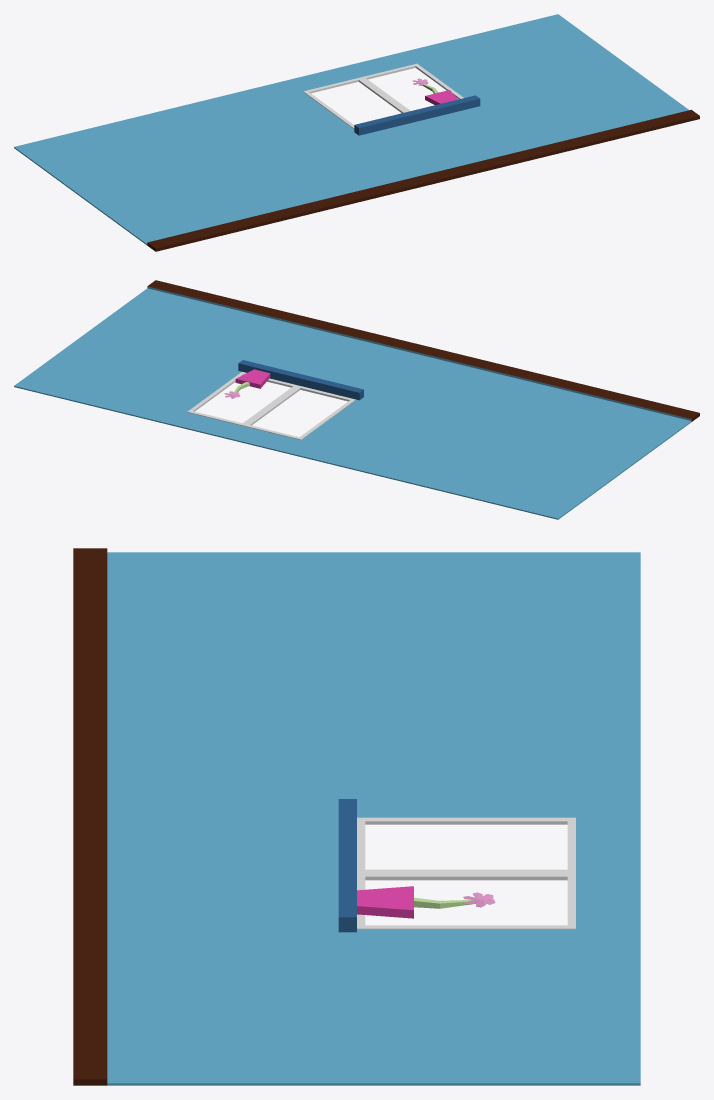
File: BedroomWall.fbx
3 renders of one model, top to bottom at view 1: azimuth 30°, elevation 25°; view 2: azimuth 150°, elevation 25°; view 3: azimuth 270°, elevation 25°, orthographic. The views are drawn at different scales.
Parts seen in each view (by area): view 1: Cube, Cube.001; view 2: Cube, Cube.001; view 3: Cube, Cube.001.
Part boxes in pixels (x1=…): Cube: x1=14, y1=14, x2=699, y2=251; Cube.001: x1=422, y1=84, x2=457, y2=104; Cube: x1=14, y1=280, x2=699, y2=519; Cube.001: x1=233, y1=369, x2=270, y2=392; Cube: x1=73, y1=548, x2=640, y2=1085; Cube.001: x1=357, y1=886, x2=475, y2=918.
Size of the model in its own units: 3067 by 50.28 by 1384.
